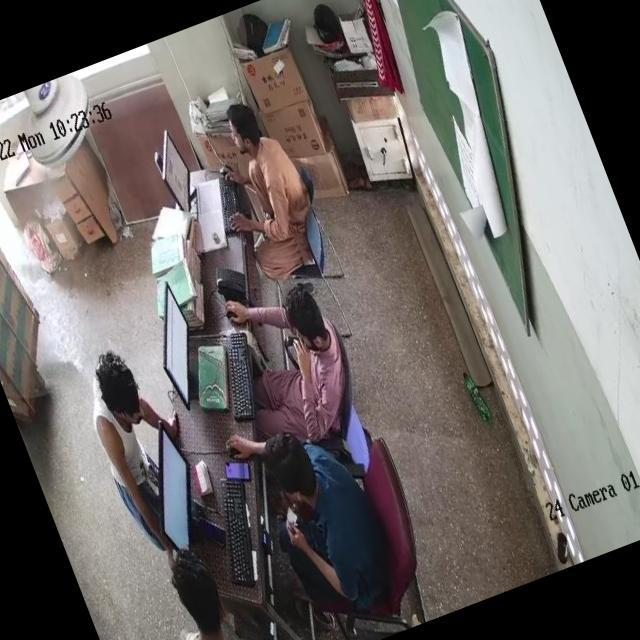person: (251, 427, 392, 611), (76, 346, 194, 553), (236, 268, 370, 436), (220, 107, 326, 276), (152, 540, 261, 640)
